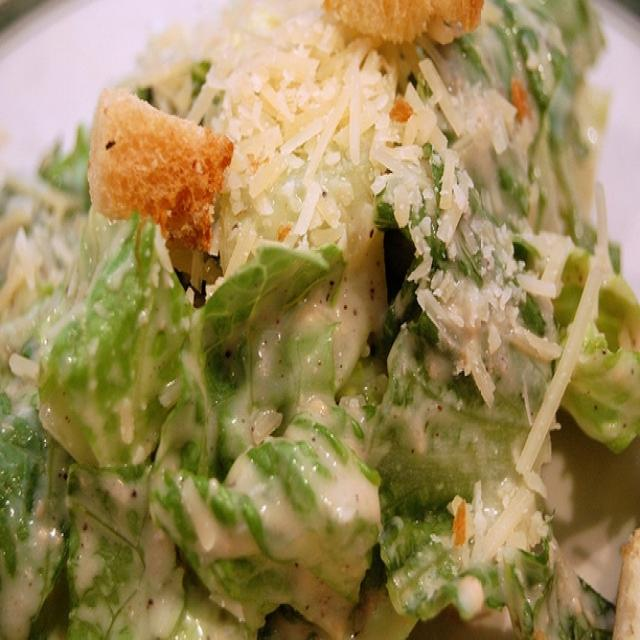蔬菜料理: (11, 8, 638, 621)
